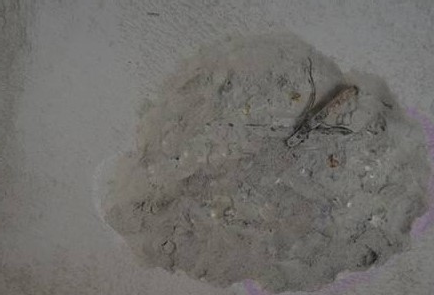Exposed reinforcement: (285, 86, 358, 149)
Spalling: (94, 30, 434, 295)
